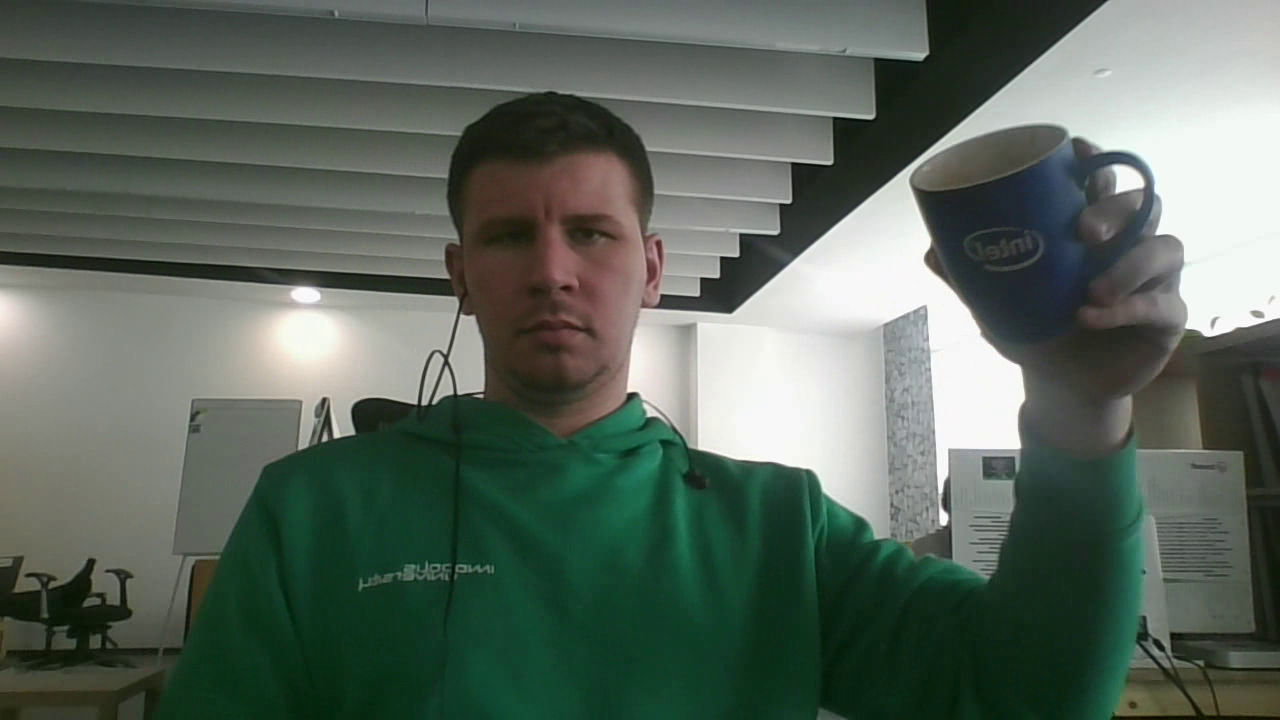cup: (911, 122, 1155, 346)
